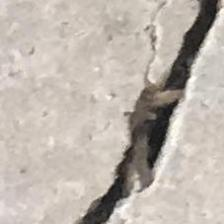Crack: (53, 1, 224, 224)
